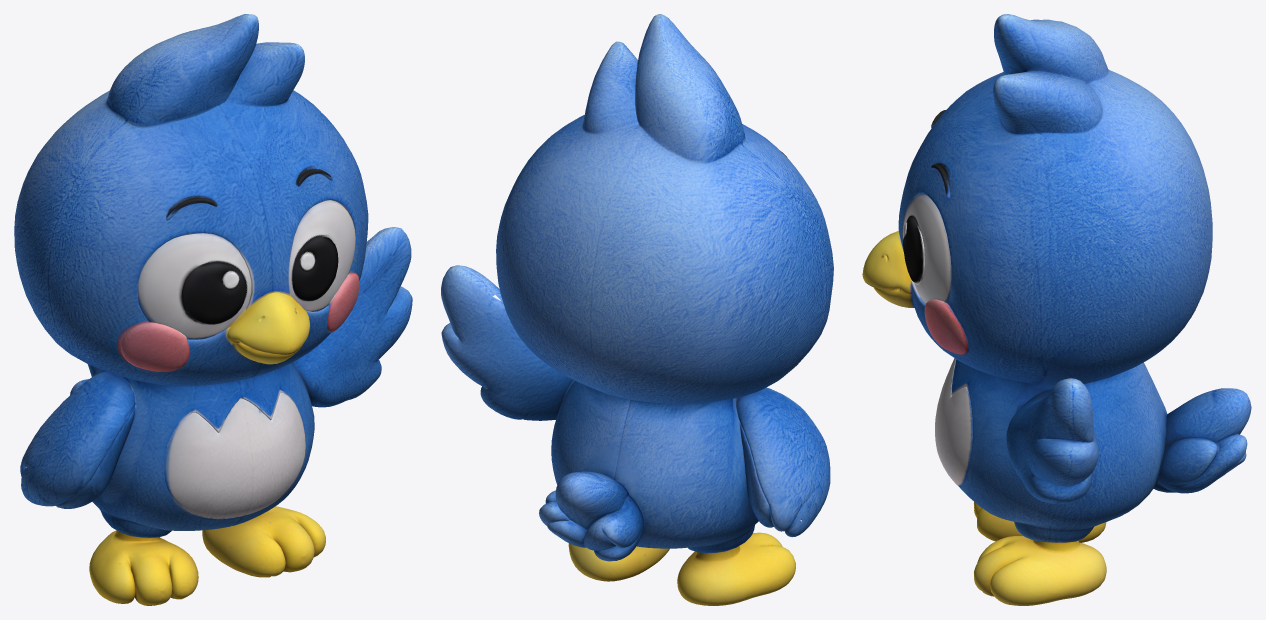
The model's file is sanjini.glb.
3 renders of one model, left to right at view 1: azimuth 30°, elevation 25°; view 2: azimuth 150°, elevation 25°; view 3: azimuth 270°, elevation 25°, orthographic. The views are drawn at different scales.
Visible parts, largest first — view 1: tripo_639ed627_6285_4931_b20e_87ec4717074c; view 2: tripo_639ed627_6285_4931_b20e_87ec4717074c; view 3: tripo_639ed627_6285_4931_b20e_87ec4717074c.
Boxes of the visible parts, bbox=[...] form: tripo_639ed627_6285_4931_b20e_87ec4717074c: bbox=[14, 14, 412, 605]; tripo_639ed627_6285_4931_b20e_87ec4717074c: bbox=[441, 14, 833, 605]; tripo_639ed627_6285_4931_b20e_87ec4717074c: bbox=[862, 14, 1251, 605].
Bounding box in the file's own units: 0.7212 × 0.9995 × 0.6294.
Materials: 1 (1 with a texture image).
